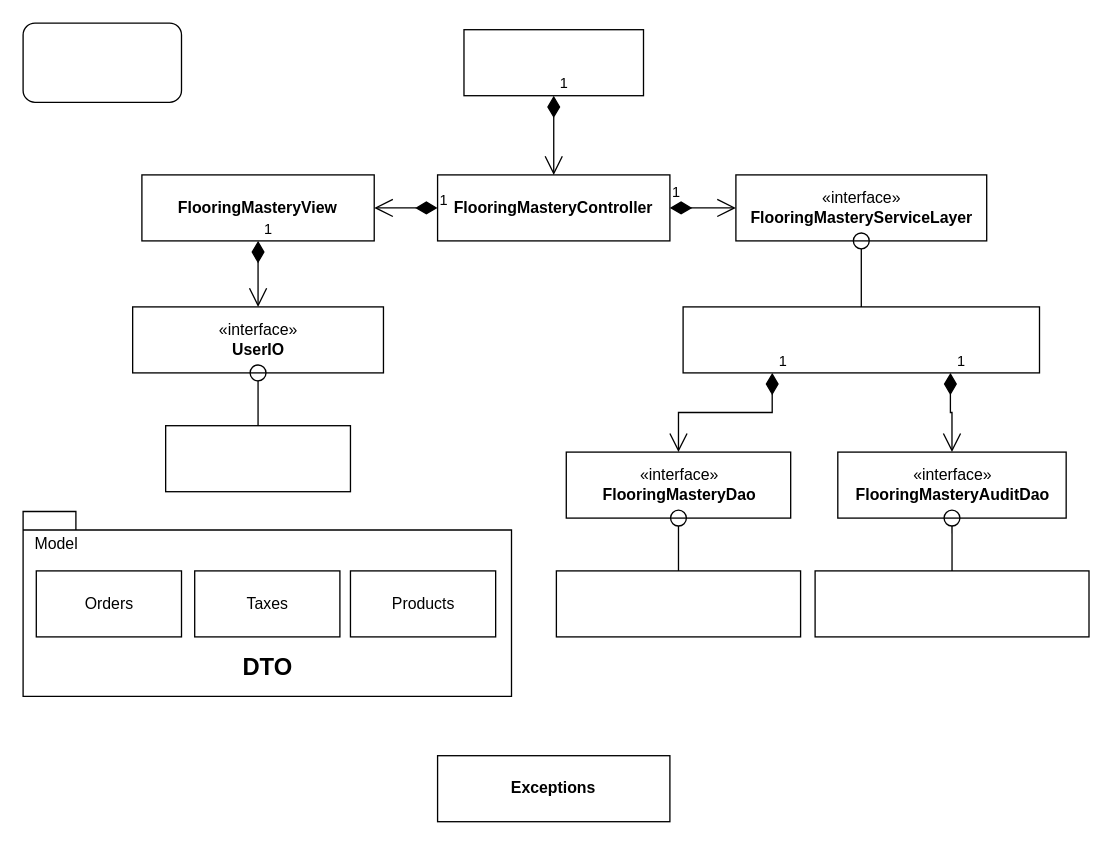
The diagram is 1113 pixels wide and 845 high, and some of its shapes have lost their labels. Here are the shapes that lost their labels. From the top down, the centre of each, then its label:
the point at 102,62: Feb 19, 2022
the point at 553,62: FlooringMasteryApp
the point at 861,339: FlooringMasteryServiceLayerImpl
the point at 257,458: UserIOConsoleImpl
the point at 678,603: FlooringMasteryDaoFileImpl
the point at 951,603: FlooringMasteryAuditDaoFileImpl
